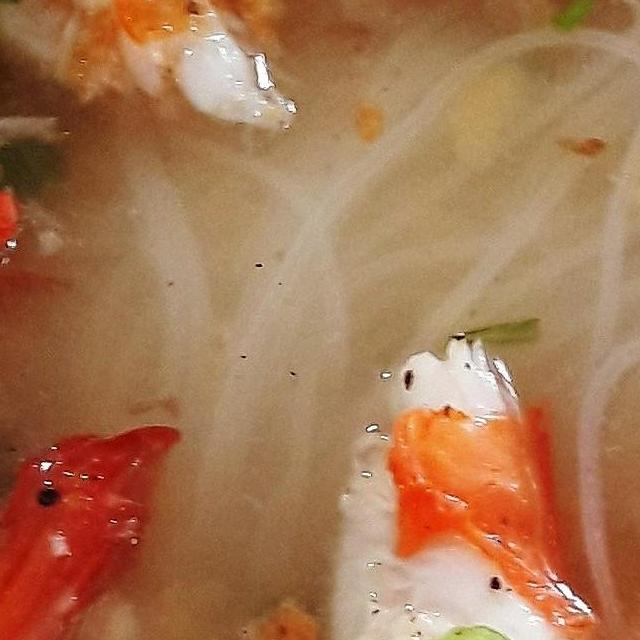banh hu tieu: (0, 0, 640, 640)
hu tieu: (0, 0, 640, 640)
tom: (0, 317, 640, 640), (0, 0, 331, 324)
